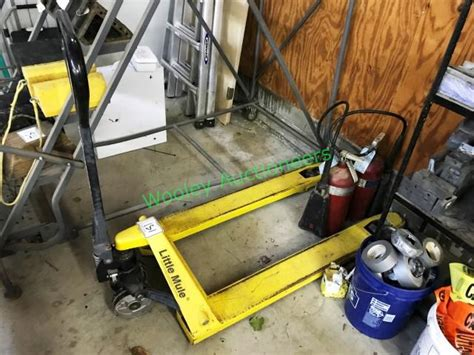Pallet Jack: (54, 7, 412, 347)
